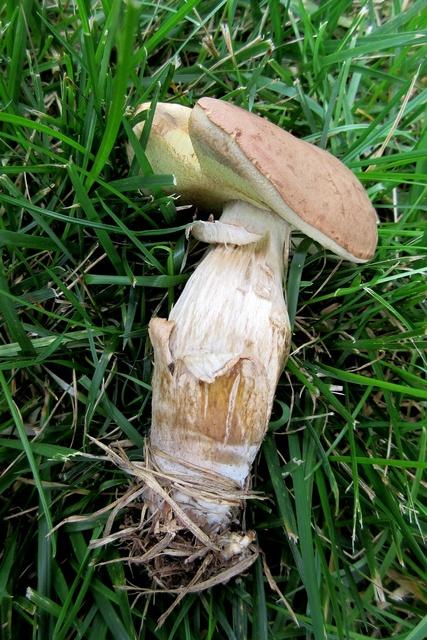edible_mushroom: (122, 95, 379, 541)
